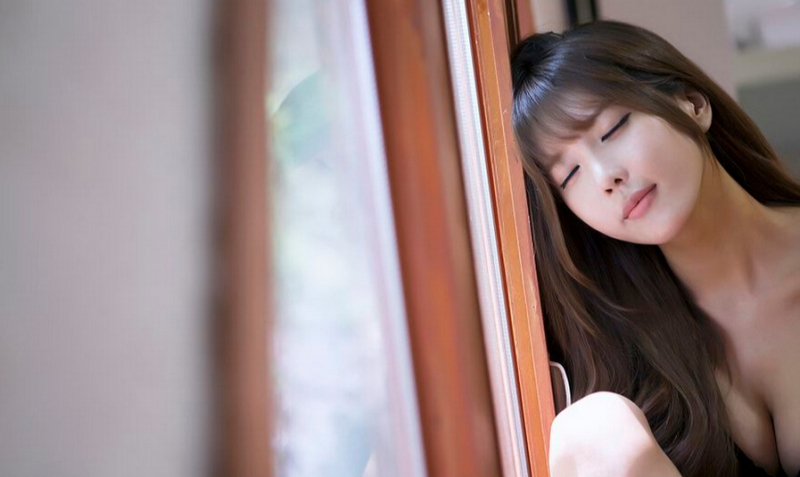people: (502, 22, 800, 477)
